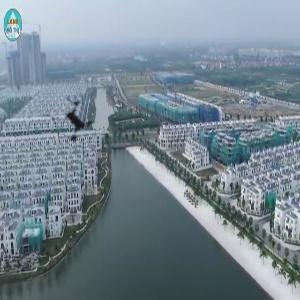drone: (26, 70, 125, 169)
